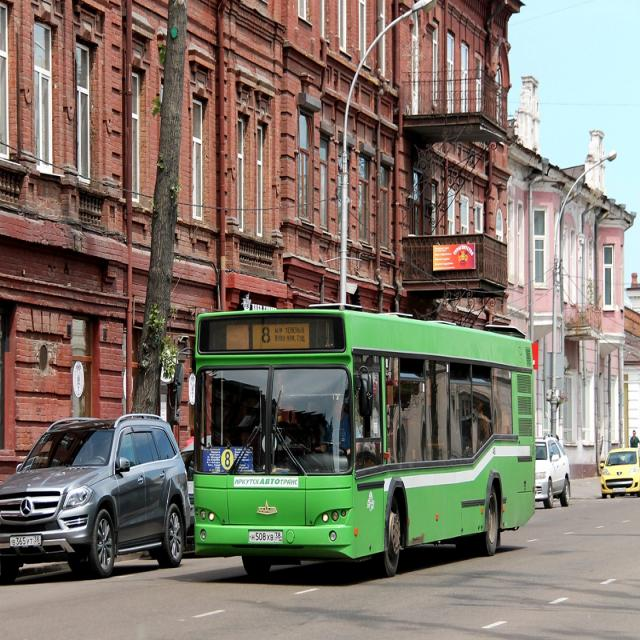number-of-bus: (262, 326, 273, 345), (223, 451, 234, 470)
